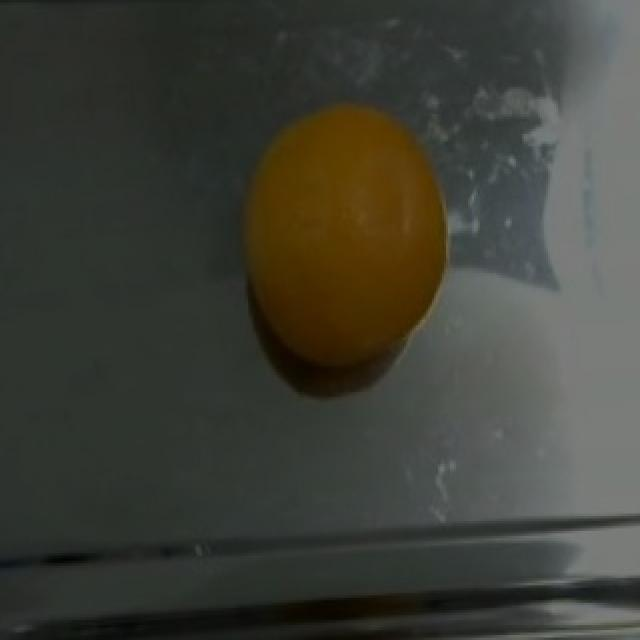Fruit: (216, 79, 472, 407)
